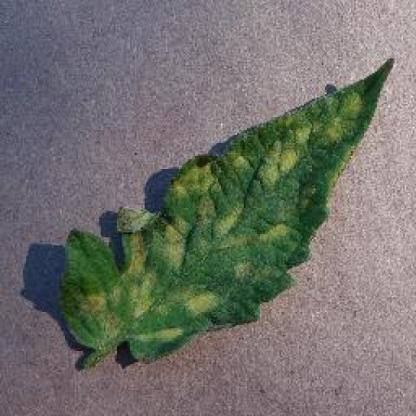Tomato_Leaf_Mold: (62, 55, 393, 357)
